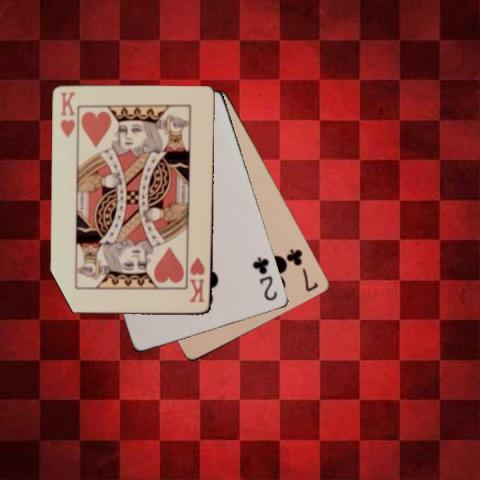2c: (250, 254, 279, 302)
7c: (285, 245, 320, 294)
Kh: (186, 254, 206, 304), (58, 90, 78, 140)
